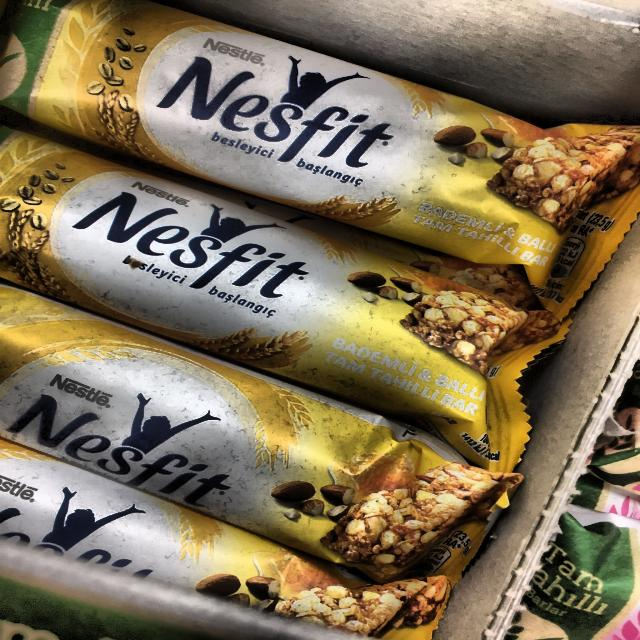Plastic: (0, 1, 640, 304), (3, 128, 568, 451), (0, 282, 510, 579)
